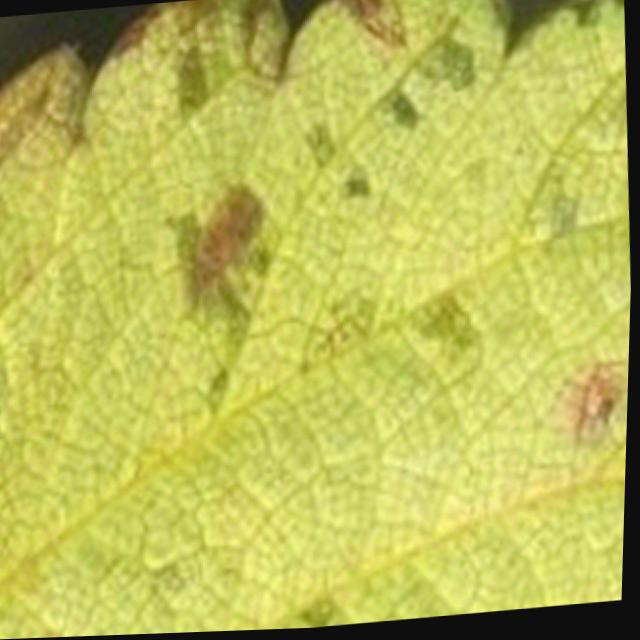Angular Leafspot: (0, 0, 633, 640)
